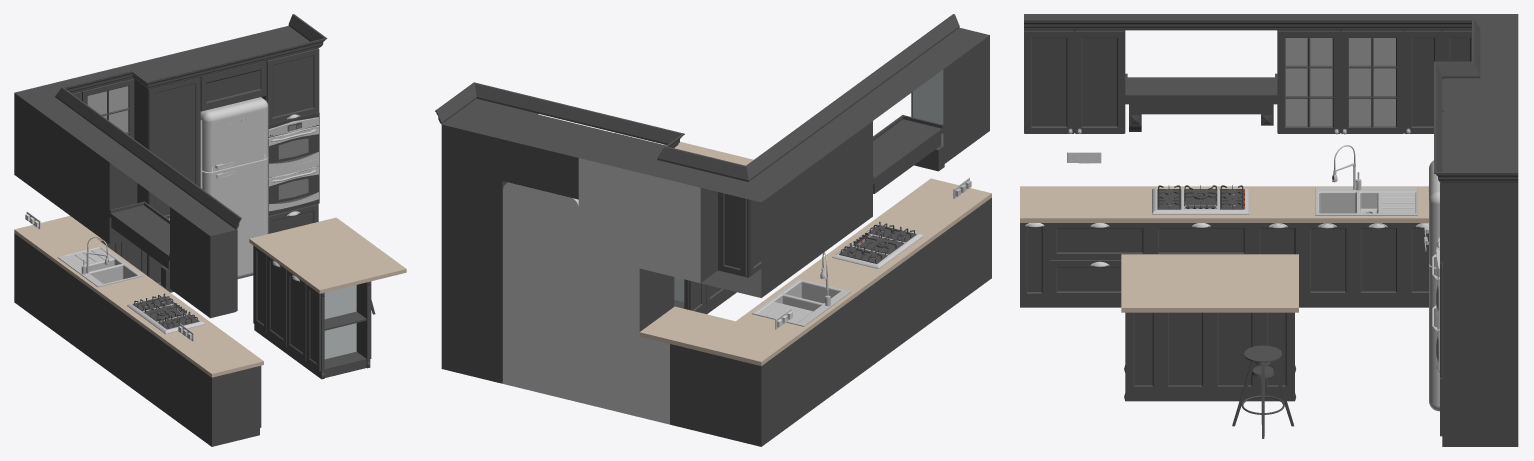
The model's file is kitchenfbx.fbx.
3 views of the same model, side by side, from view 1: azimuth 30°, elevation 25°; view 2: azimuth 150°, elevation 25°; view 3: azimuth 270°, elevation 25° (orthographic). The views are drawn at different scales.
Visible parts, largest first — view 1: Mesh283, Mesh304, Mesh283.001, Group41, Group9, Group5, Mesh310, Group36, Group35, Group72, Group32, Group16 (+22 smaller); view 2: Mesh283, Mesh285, Mesh304, Group41, Group32, Group36, Group42, Group35, Group16, Group67, Mesh312, Group9 (+2 smaller); view 3: Mesh285, Mesh283, Group9, Group41, Group34, Group37, Group35, _______110, Mesh304, Group36, _______502, _______55_ (+34 smaller).
Boxes of the visible parts, bbox=[...] form: Mesh283: bbox=[14, 54, 236, 318]; Mesh304: bbox=[42, 253, 259, 446]; Mesh283.001: bbox=[200, 97, 268, 278]; Group41: bbox=[14, 216, 263, 377]; Group9: bbox=[249, 217, 406, 293]; Group5: bbox=[148, 77, 200, 218]; Mesh310: bbox=[254, 282, 366, 378]; Group36: bbox=[62, 14, 327, 218]; Group35: bbox=[55, 88, 241, 229]; Group72: bbox=[272, 55, 313, 116]; Group32: bbox=[14, 233, 41, 322]; Group16: bbox=[57, 246, 142, 287]; Mesh283: bbox=[503, 28, 989, 424]; Mesh285: bbox=[441, 99, 537, 383]; Mesh304: bbox=[793, 198, 991, 422]; Group41: bbox=[639, 178, 991, 365]; Group32: bbox=[670, 343, 793, 446]; Group36: bbox=[435, 14, 954, 181]; Group42: bbox=[502, 114, 612, 199]; Group35: bbox=[746, 15, 959, 181]; Group16: bbox=[751, 278, 851, 326]; Group67: bbox=[718, 192, 746, 276]; Mesh312: bbox=[832, 223, 923, 268]; Group9: bbox=[663, 142, 753, 165]; Mesh285: bbox=[1442, 150, 1518, 446]; Mesh283: bbox=[1024, 14, 1518, 133]; Group9: bbox=[1121, 254, 1298, 312]; Group41: bbox=[1020, 186, 1428, 222]; Group34: bbox=[1075, 30, 1124, 133]; Group37: bbox=[1024, 30, 1073, 133]; Group35: bbox=[1024, 20, 1471, 30]; _______110: bbox=[1161, 312, 1209, 392]; Mesh304: bbox=[1020, 223, 1428, 307]; Group36: bbox=[1024, 19, 1518, 182]; _______502: bbox=[1303, 223, 1352, 298]; _______55_: bbox=[1354, 223, 1403, 298].
Bounding box in the file's own units: 324 × 242 × 394.
